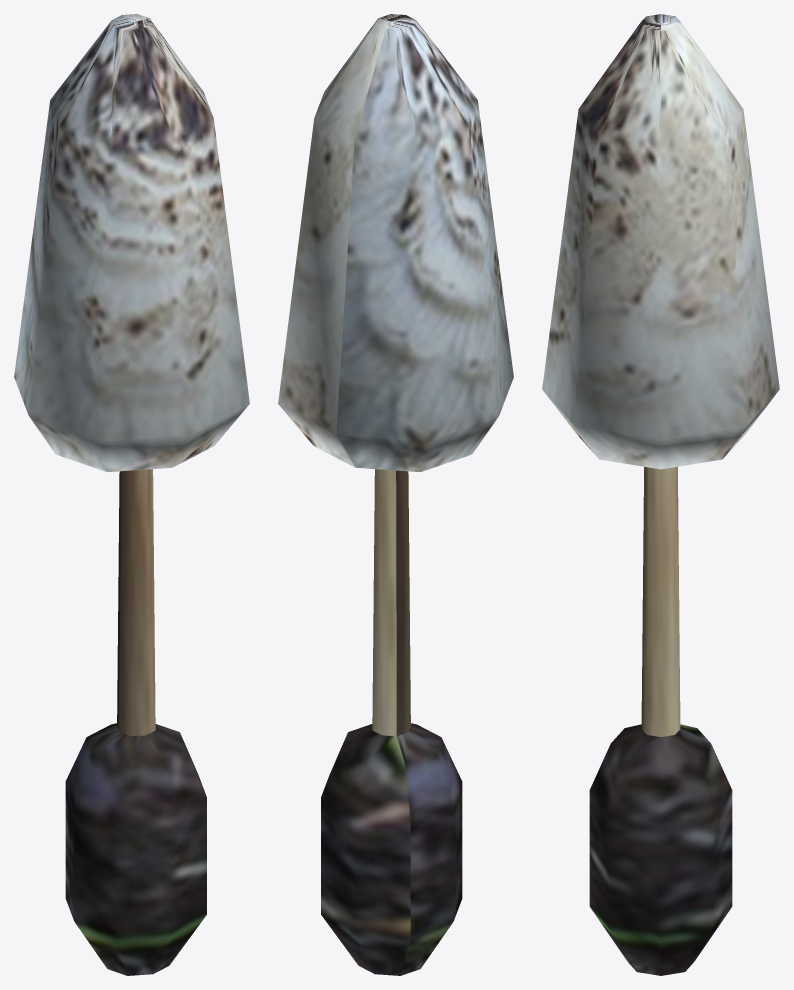
Rendered from Hongo01.glb.
3 renders of one model, left to right at view 1: azimuth 30°, elevation 25°; view 2: azimuth 150°, elevation 25°; view 3: azimuth 270°, elevation 25°, orthographic.
Visible parts, largest first — view 1: Cube.043; view 2: Cube.043; view 3: Cube.043.
Boxes of the visible parts, bbox=[...] form: Cube.043: bbox=[14, 14, 249, 975]; Cube.043: bbox=[278, 14, 513, 975]; Cube.043: bbox=[542, 14, 779, 975].
Size of the model in its own units: 0.6902 by 3 by 0.6902.
Materials: 1 (1 with a texture image).
